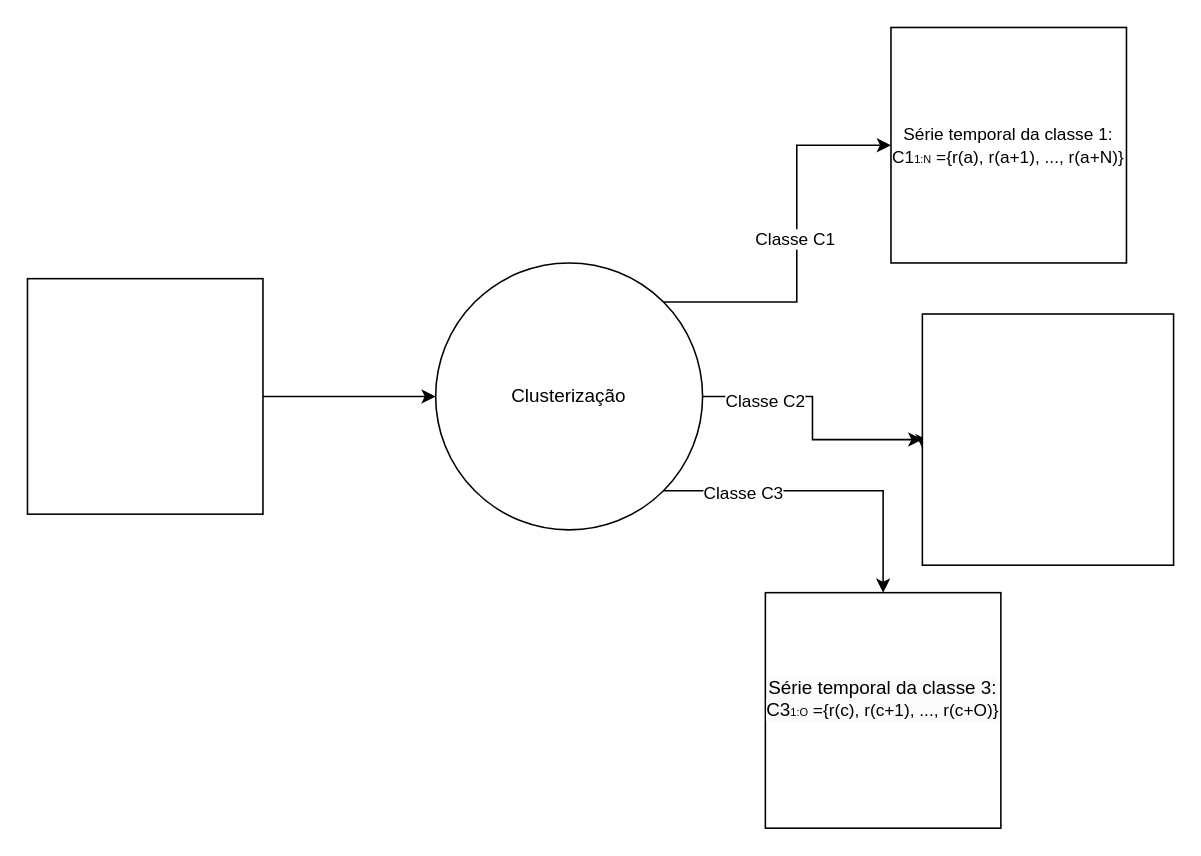
Some shapes in this 1201 by 856 pixel diagram are drawn without their labels. Here are the shapes that lost their labels. From the top down, the centre of each, then its label:
At (144,395): "Série Temporal dos Retornos: R 1:N = { r(1), r(2), ..., r(n) }".
At (1047,438): "Série temporal da classe 2: C2 1:M ={r(b), r(b+1), ..., r(b+M)}".
